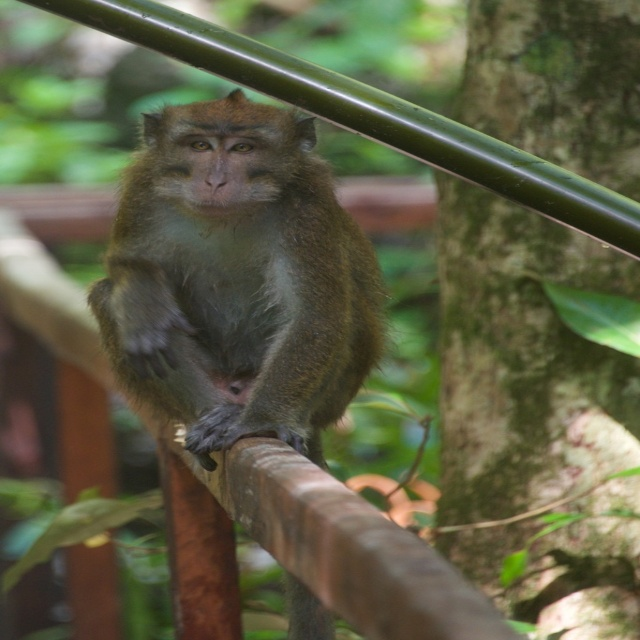Monkey: (94, 97, 355, 418)
